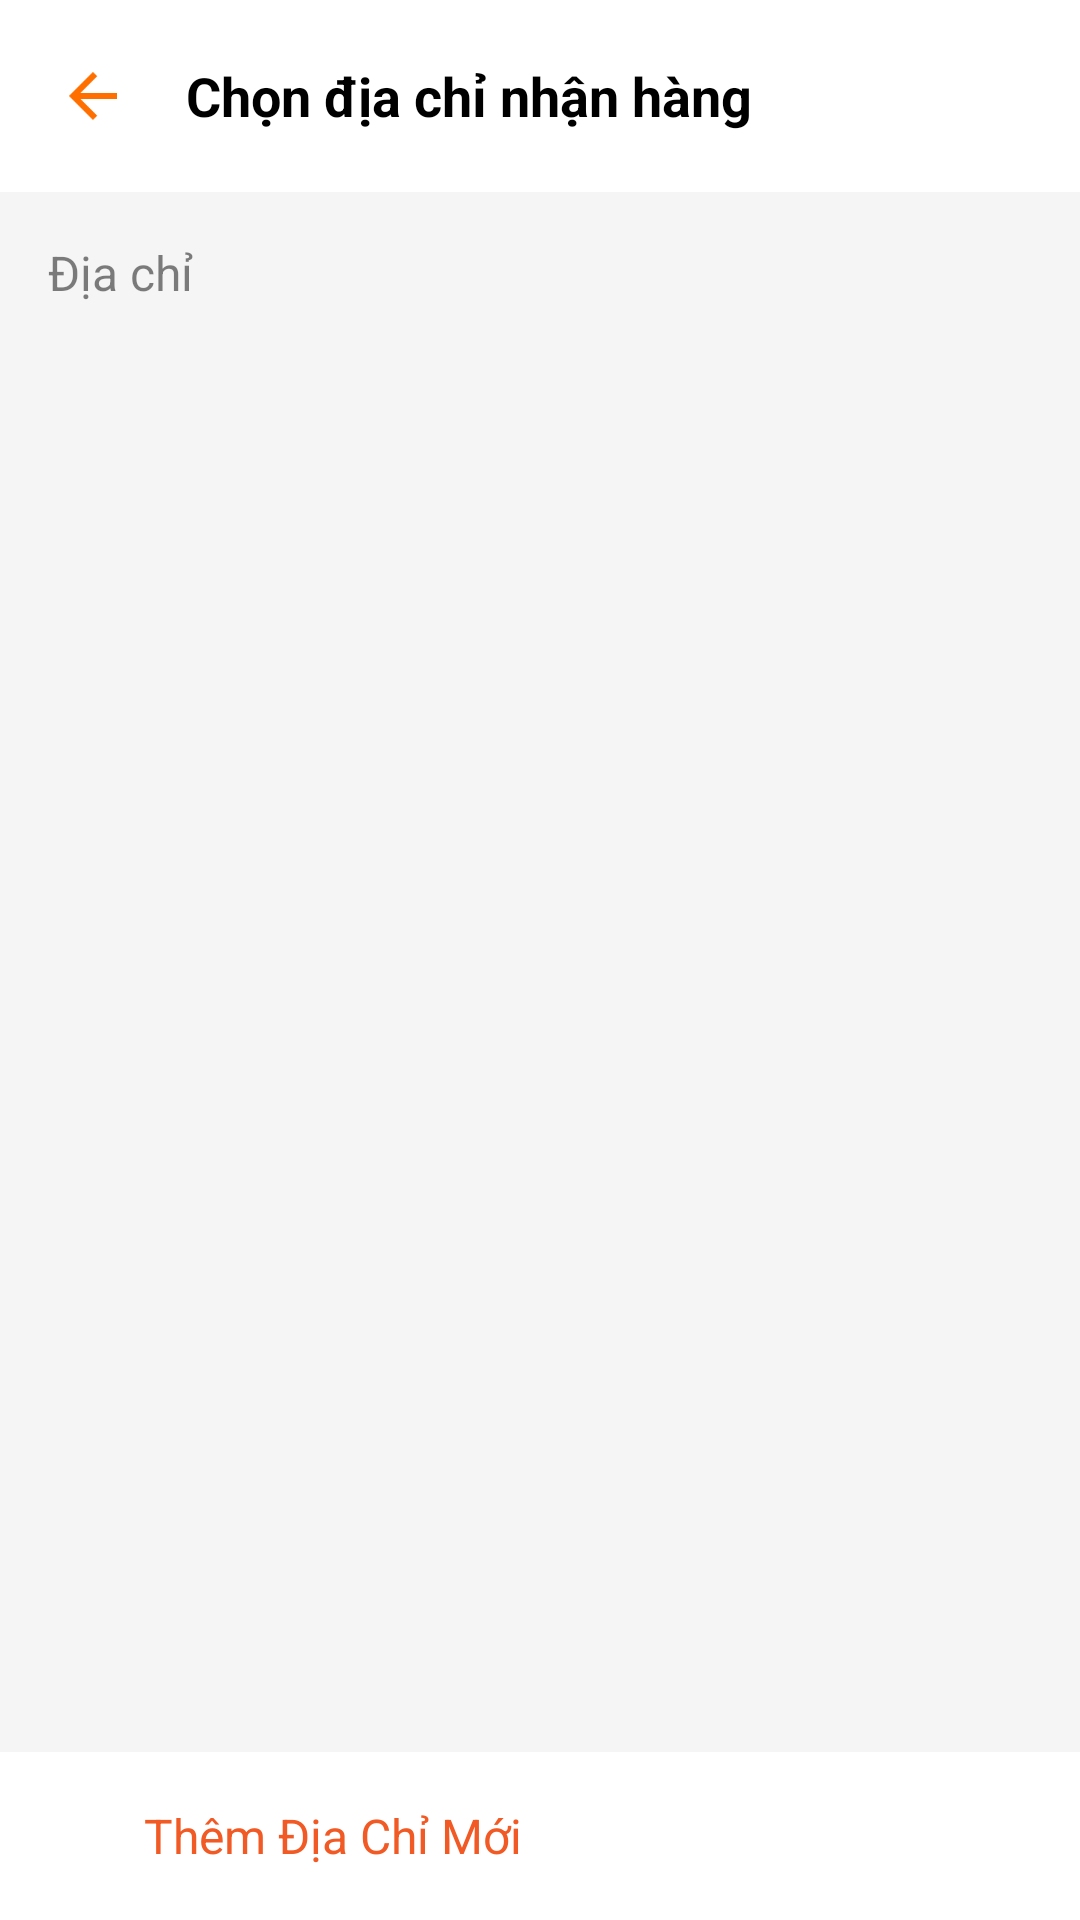

Locate icon controls on the screen. Image size 1080w x 1920h, boxes as region(x1, y1, x2, y2).
left: region(69, 72, 117, 120)
